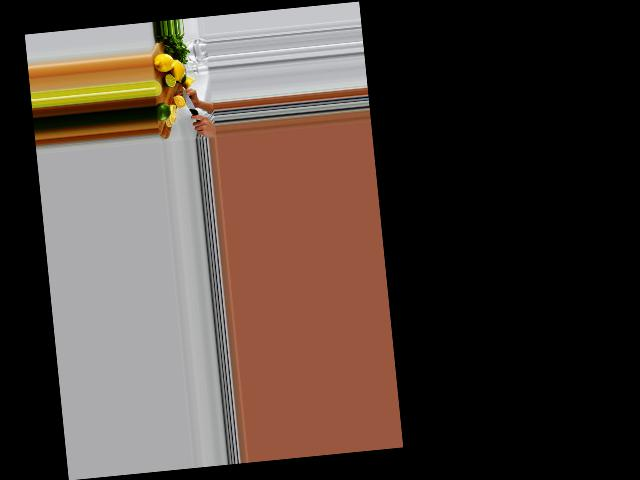lemon: (153, 49, 174, 74)
